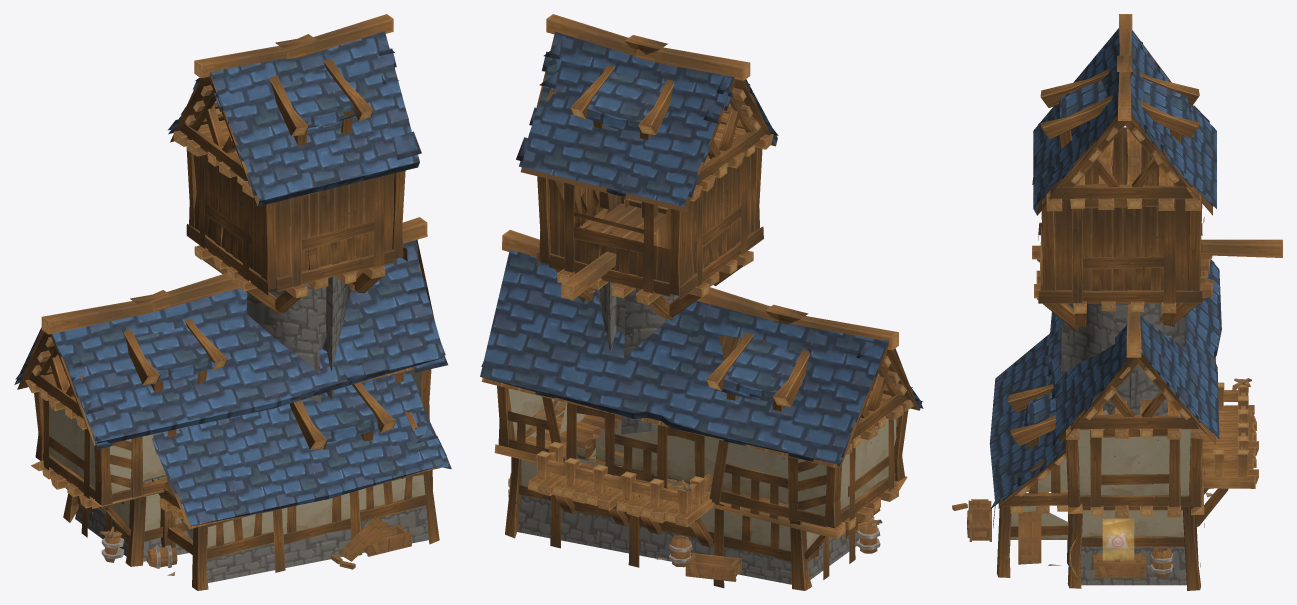
The model's file is BLD_ImmuneFort_lod.glb.
3 renders of one model, left to right at view 1: azimuth 30°, elevation 25°; view 2: azimuth 150°, elevation 25°; view 3: azimuth 270°, elevation 25°, orthographic. The views are drawn at different scales.
Visible parts, largest first — view 1: Ground Plane002_Material #243_0, Ground Plane002_Material #14_0, Ground Plane002_Material #409_0, Ground Plane002_Material #15_0, Ground Plane002_Material #94_0; view 2: Ground Plane002_Material #243_0, Ground Plane002_Material #14_0, Ground Plane002_Material #409_0, Ground Plane002_Material #94_0, Ground Plane002_Material #15_0; view 3: Ground Plane002_Material #14_0, Ground Plane002_Material #243_0, Ground Plane002_Material #409_0, Ground Plane002_Material #94_0, Ground Plane002_Material #15_0.
Boxes of the visible parts, x1,y1,x2,y2 form: Ground Plane002_Material #243_0: (14,31,451,526); Ground Plane002_Material #14_0: (17,34,441,590); Ground Plane002_Material #409_0: (25,14,427,575); Ground Plane002_Material #15_0: (75,276,428,582); Ground Plane002_Material #94_0: (42,369,425,548); Ground Plane002_Material #243_0: (480,31,923,466); Ground Plane002_Material #14_0: (481,32,919,590); Ground Plane002_Material #409_0: (494,14,914,581); Ground Plane002_Material #94_0: (508,388,896,551); Ground Plane002_Material #15_0: (517,282,859,584); Ground Plane002_Material #14_0: (993,31,1228,590); Ground Plane002_Material #243_0: (989,28,1221,508); Ground Plane002_Material #409_0: (952,14,1282,578); Ground Plane002_Material #94_0: (1010,410,1197,539); Ground Plane002_Material #15_0: (1061,303,1186,585).
Bounding box in the file's own units: 1449 × 1749 × 1092.
5 materials, 5 textured.
